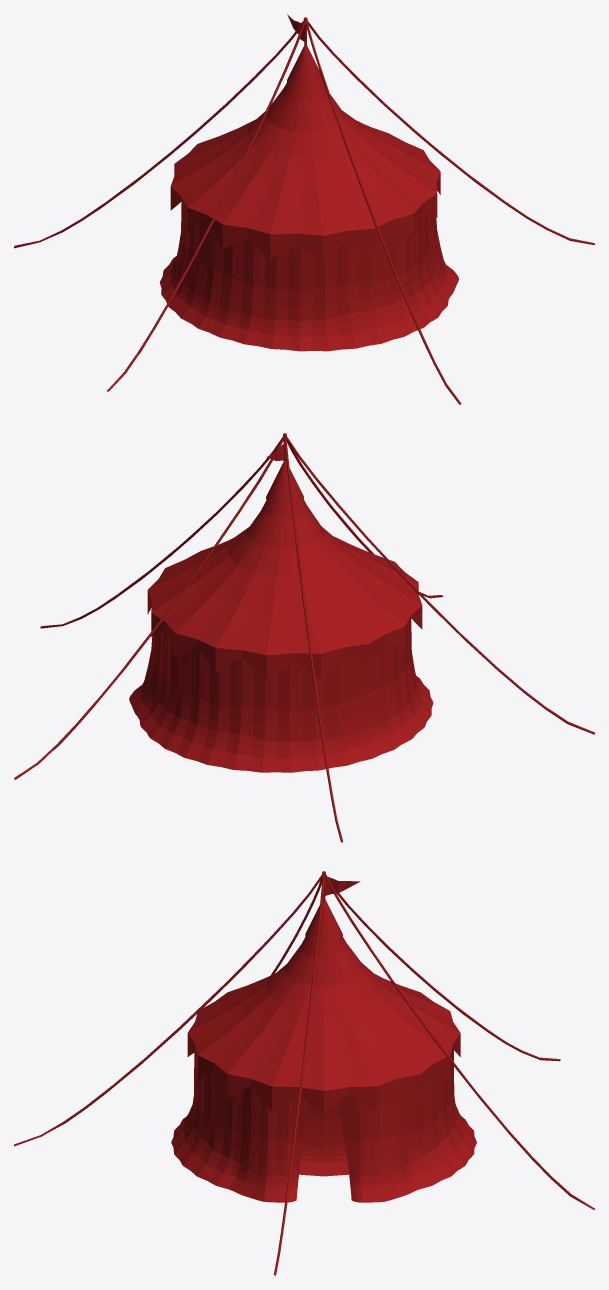
File: Carpa.obj
3 views of the same model, one above another, from view 1: azimuth 30°, elevation 25°; view 2: azimuth 150°, elevation 25°; view 3: azimuth 270°, elevation 25° (orthographic).
Visible parts, largest first — view 1: Cylinder.001; view 2: Cylinder.001; view 3: Cylinder.001.
Boxes of the visible parts, x1,y1,x2,y2 form: Cylinder.001: [14, 14, 594, 404]; Cylinder.001: [14, 433, 594, 842]; Cylinder.001: [14, 871, 594, 1275].
Size of the model in its own units: 8.01 by 4.07 by 7.79.
1 material, 1 textured.
